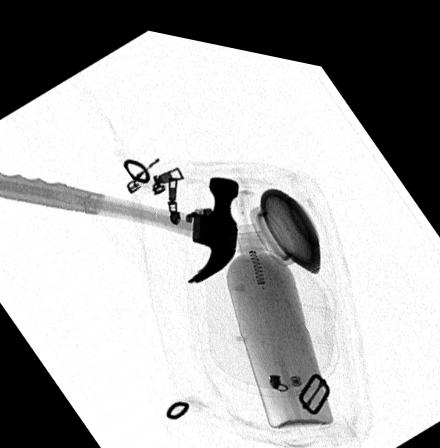Hammer: (0, 167, 239, 277)
